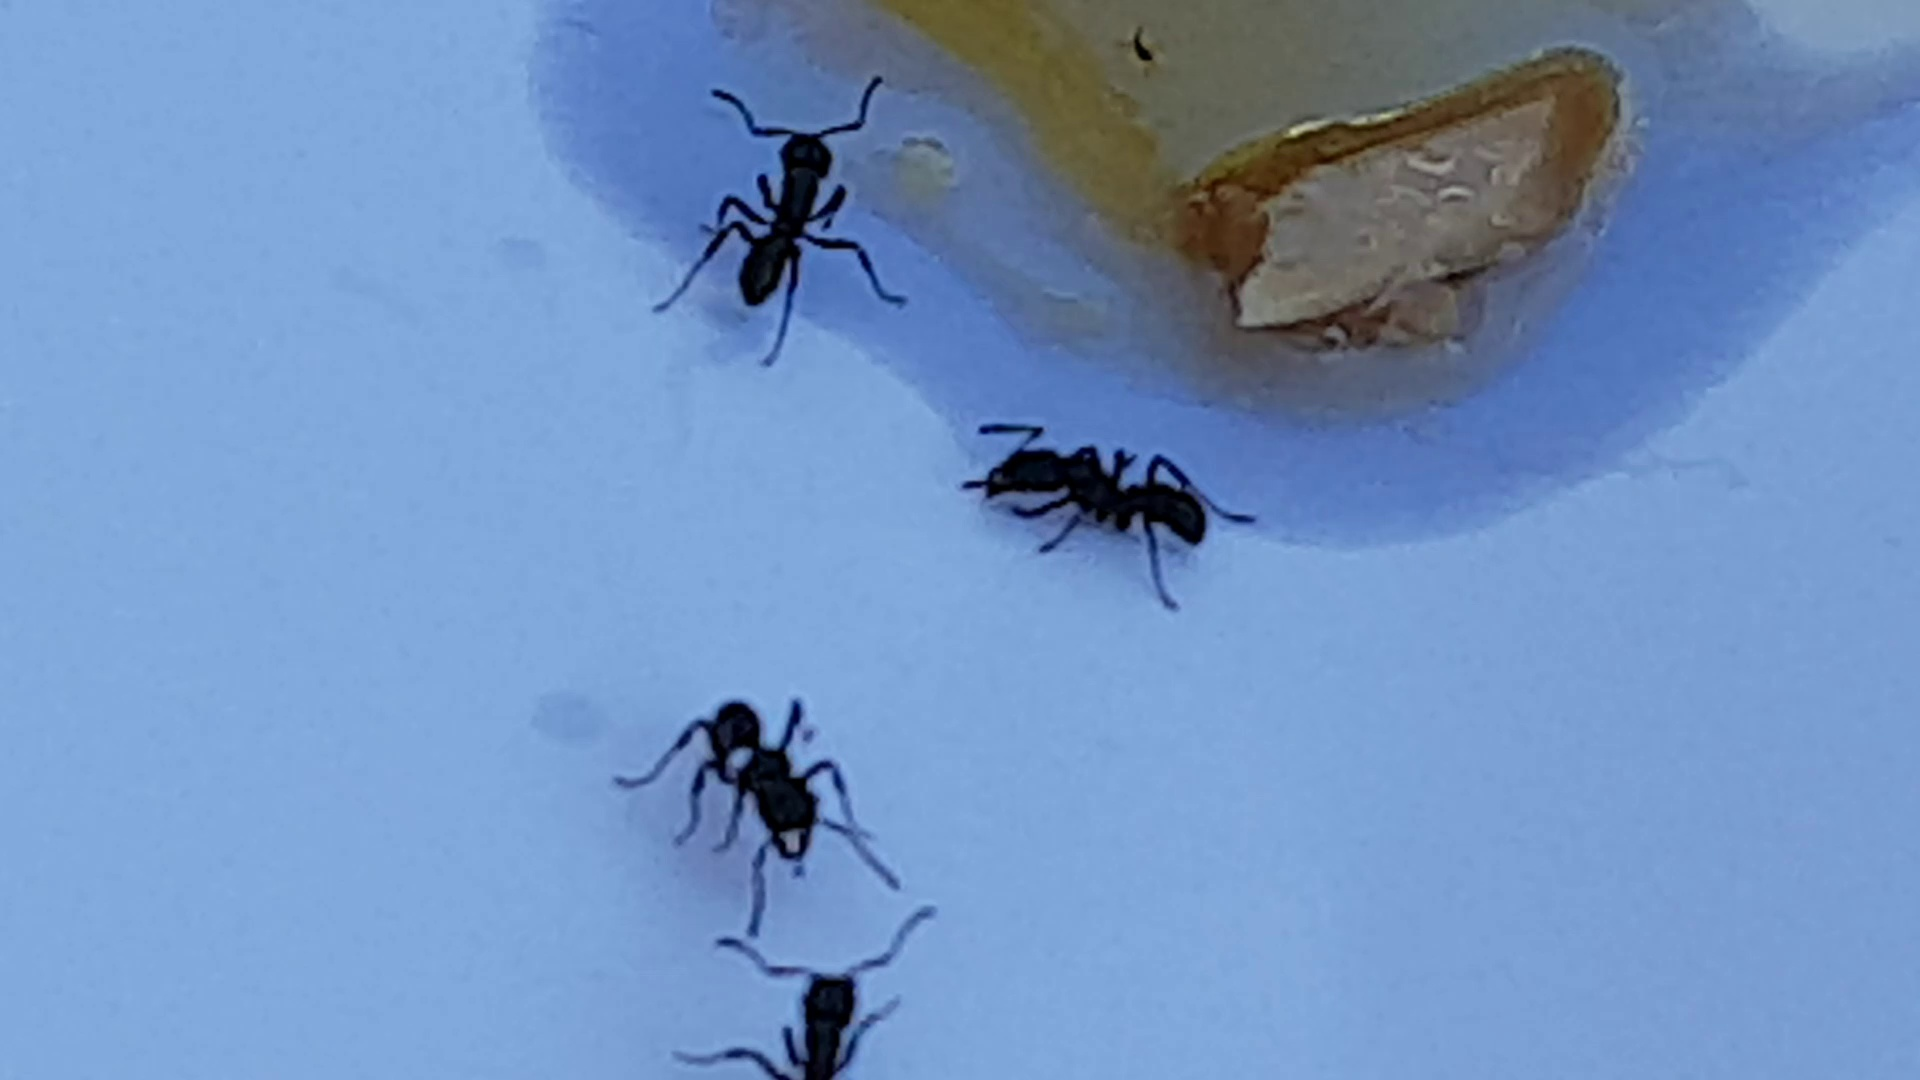sample_ants: (638, 54, 928, 378), (603, 676, 909, 940), (944, 401, 1271, 621), (667, 891, 944, 1080)
